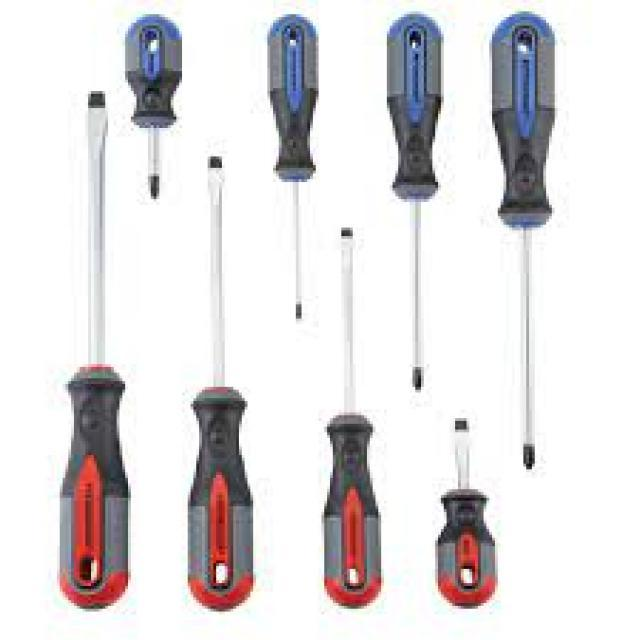screwdriver: (52, 87, 132, 613), (183, 152, 254, 616), (490, 7, 558, 488), (318, 226, 384, 610), (381, 10, 447, 394), (264, 13, 322, 320), (116, 12, 190, 198), (431, 417, 502, 610)
